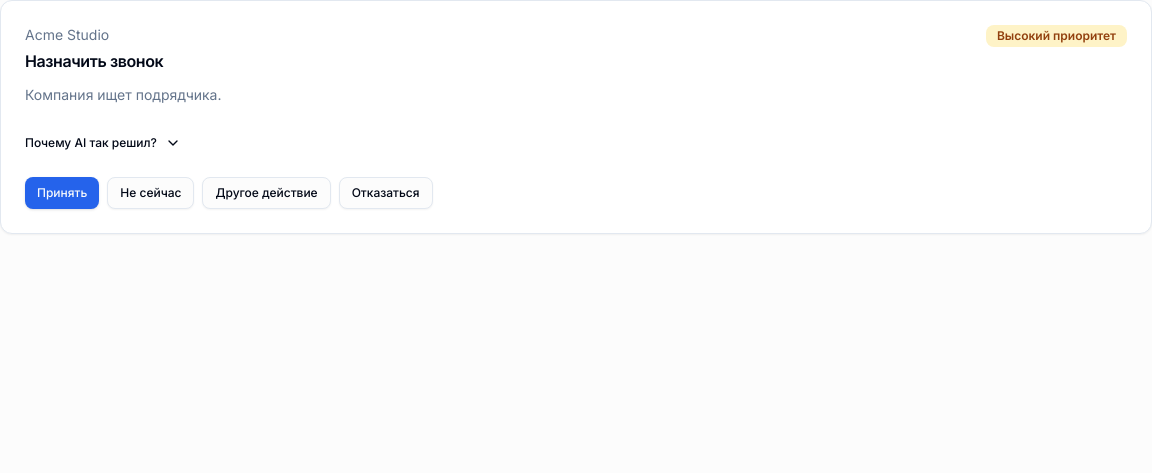
Test: NeedsDecisionCard › clears a stale action error on cancel and panel switch
The width and height of the screenshot is (1152, 473).
Click the button "Принять": (62, 193) 25,177 -> 99,209
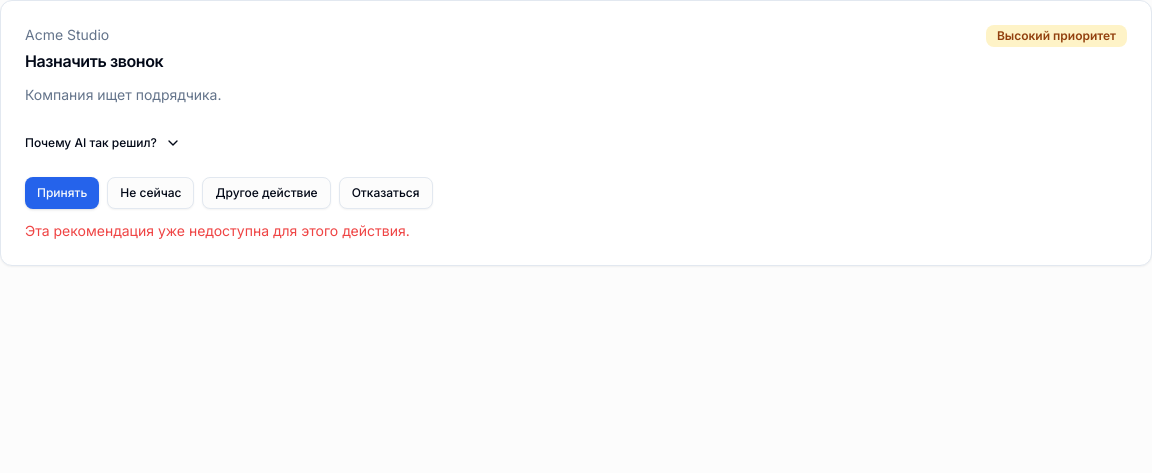
expect the message "Эта рекомендация уже недоступна для этого действия." is shown: met, box 25,222 -> 410,239
Click the button "Другое действие": (267, 193) 202,177 -> 331,209
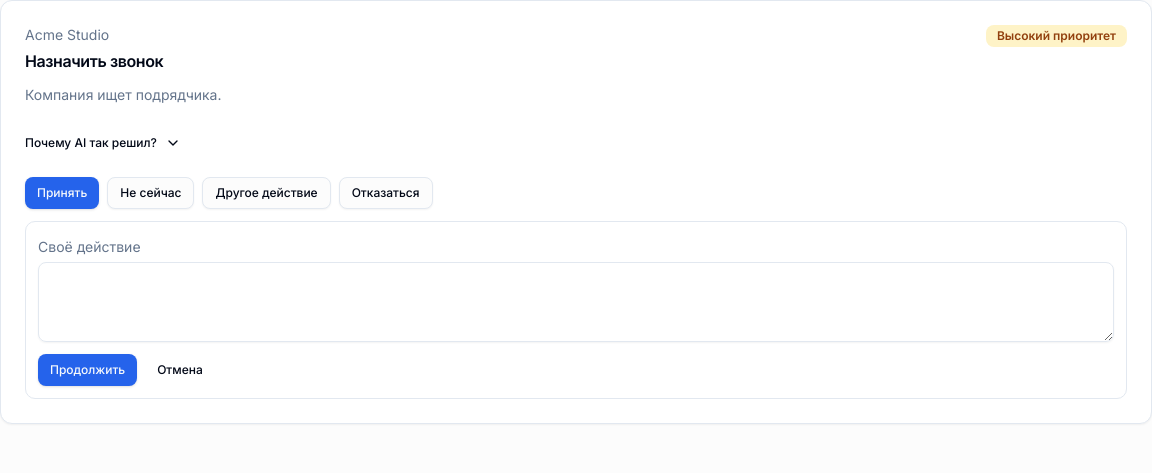
expect the message "Эта рекомендация уже недоступна для этого действия." is gone: met
Click the button "Продолжить": (88, 370) 38,354 -> 137,386
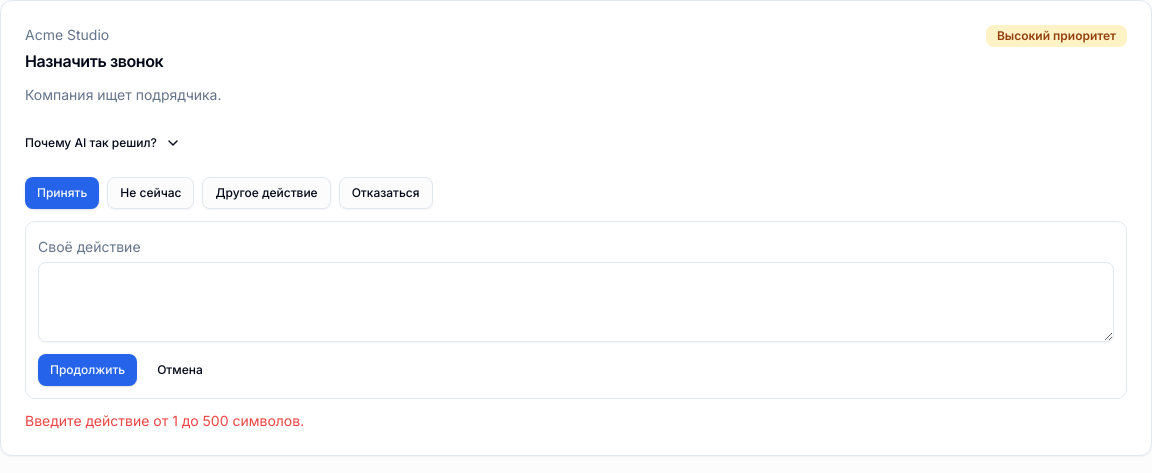
expect the message reads "Введите действие от 1 до 500 символов.": met, box 25,412 -> 304,429
Click the button "Отмена": (180, 370) 145,354 -> 215,386
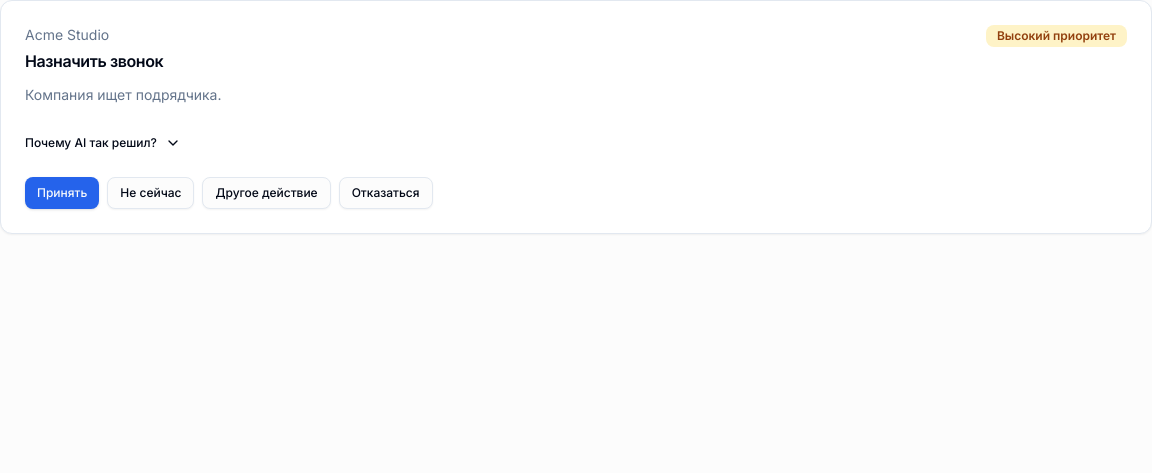
expect the message "Введите действие от 1 до 500 символов." is gone: met
